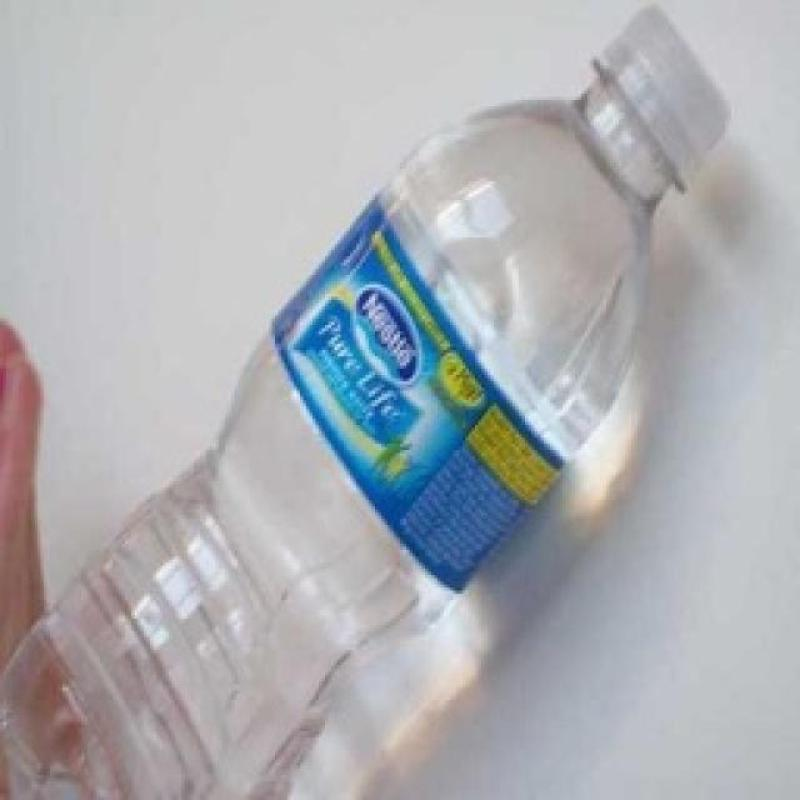botella: (2, 0, 733, 800)
